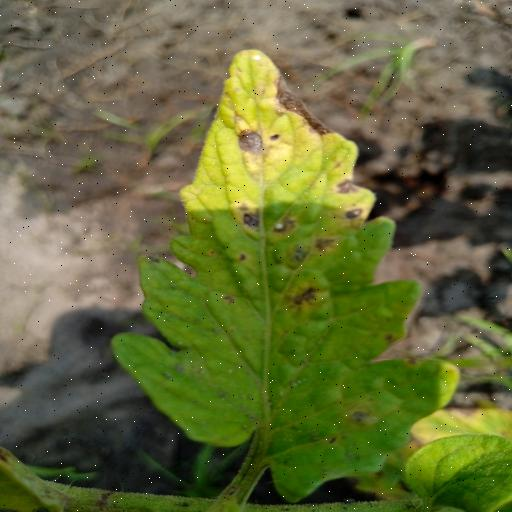Tomato_Brown_Spots: (101, 46, 464, 504)
